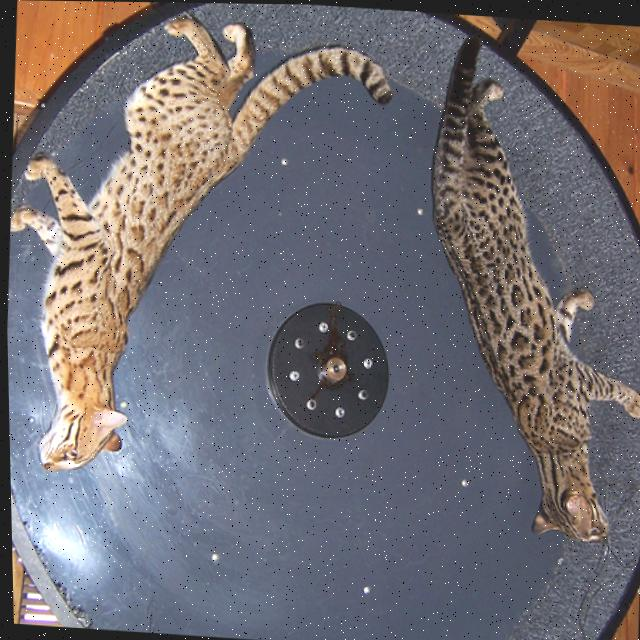Bengal: (0, 0, 409, 520), (400, 18, 640, 552)
